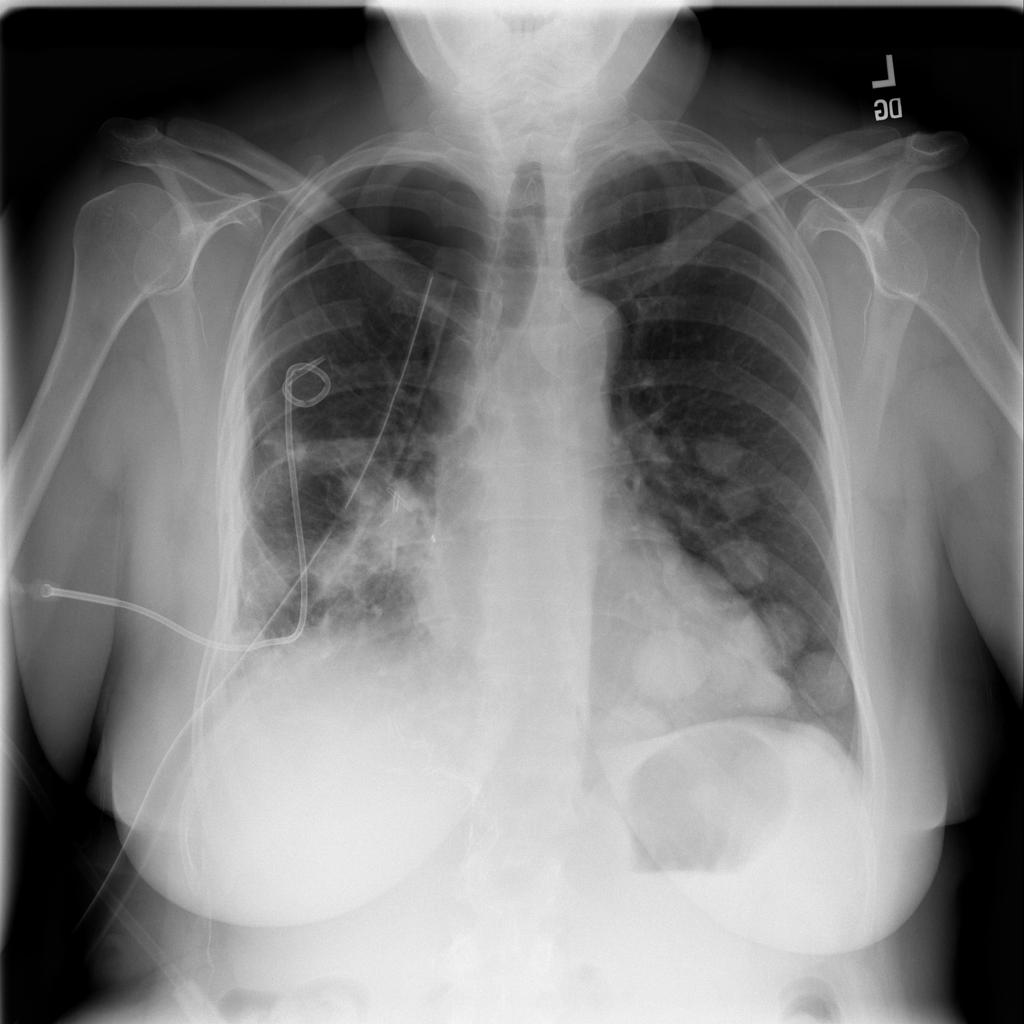nodule: (322, 463, 459, 623), (626, 623, 711, 706), (593, 695, 680, 765), (720, 649, 799, 723), (728, 598, 809, 670), (706, 528, 781, 600), (795, 645, 861, 723), (693, 420, 757, 494), (707, 472, 776, 536)
